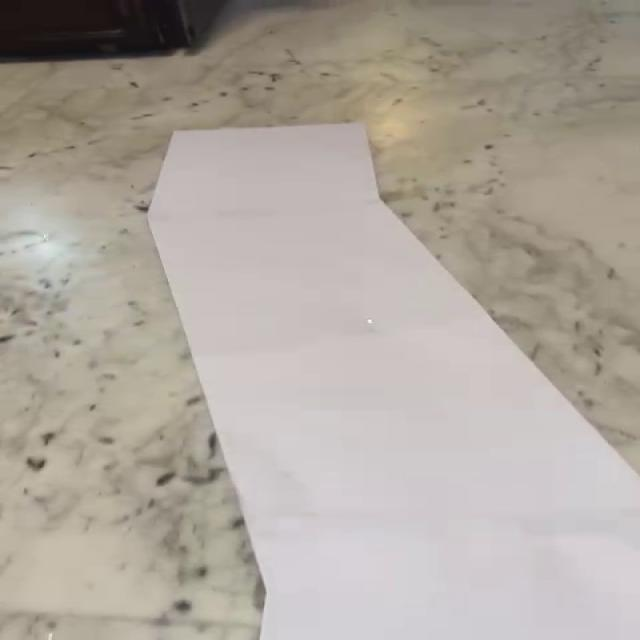road: (148, 124, 638, 640)
